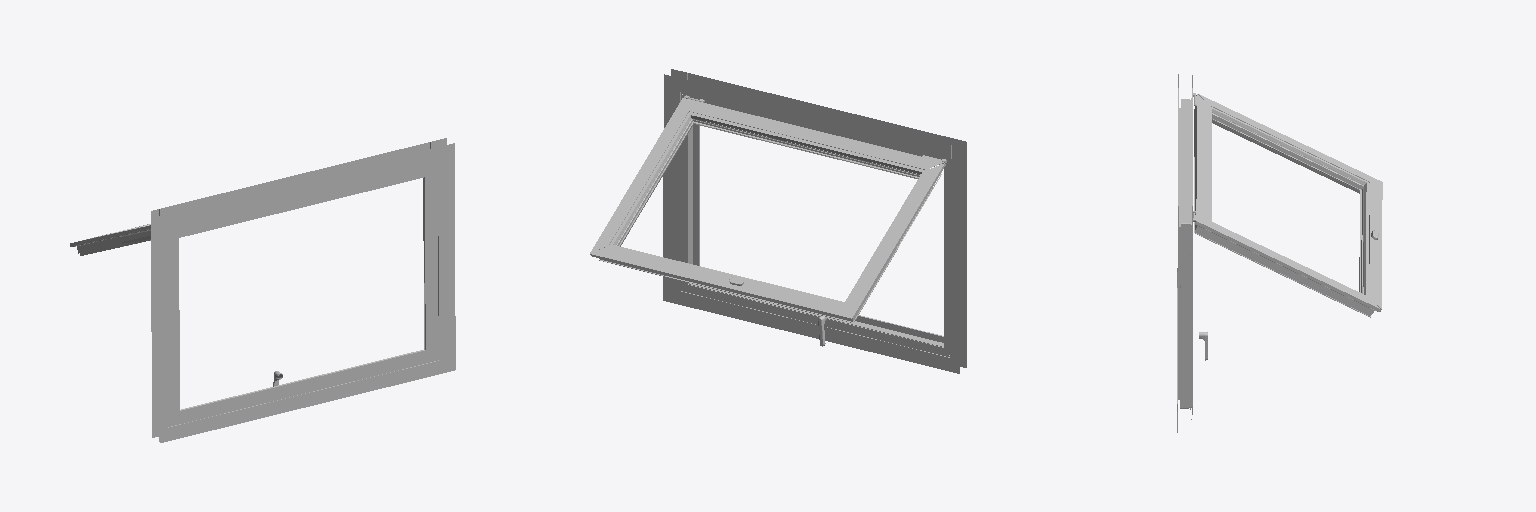
File: Janela.obj
3 views of the same model, side by side, from view 1: azimuth 30°, elevation 25°; view 2: azimuth 150°, elevation 25°; view 3: azimuth 270°, elevation 25° (orthographic).
Parts seen in each view (by area): view 1: #WIN0003_Frame_#WIN0003_Textures_0, #WIN0003_Window_#WIN0003_Textures_0; view 2: #WIN0003_Frame_#WIN0003_Textures_0, #WIN0003_Window_#WIN0003_Textures_0; view 3: #WIN0003_Window_#WIN0003_Textures_0, #WIN0003_Frame_#WIN0003_Textures_0.
Boxes of the visible parts, x1=… form: #WIN0003_Frame_#WIN0003_Textures_0: x1=151, y1=138, x2=455, y2=442; #WIN0003_Window_#WIN0003_Textures_0: x1=70, y1=224, x2=150, y2=255; #WIN0003_Frame_#WIN0003_Textures_0: x1=663, y1=69, x2=966, y2=373; #WIN0003_Window_#WIN0003_Textures_0: x1=590, y1=97, x2=945, y2=322; #WIN0003_Window_#WIN0003_Textures_0: x1=1193, y1=94, x2=1382, y2=317; #WIN0003_Frame_#WIN0003_Textures_0: x1=1177, y1=74, x2=1195, y2=432.
Size of the model in its own units: 1.42 by 1.04 by 0.8519.